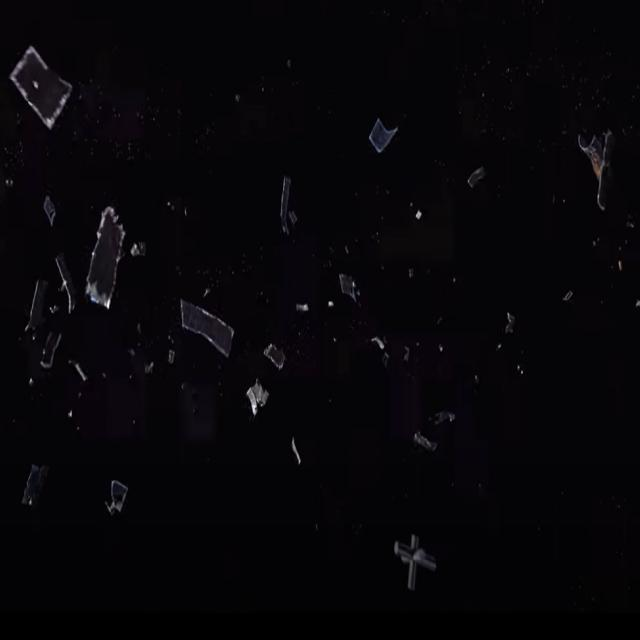large_debris: (13, 34, 82, 138), (25, 250, 74, 369), (88, 190, 126, 333), (176, 286, 238, 362), (578, 124, 615, 201), (397, 534, 439, 599), (275, 172, 308, 252), (259, 338, 295, 396), (102, 467, 139, 522), (366, 111, 400, 164), (336, 271, 366, 319), (464, 160, 490, 204), (287, 429, 311, 476), (243, 390, 271, 428), (408, 428, 438, 462)
